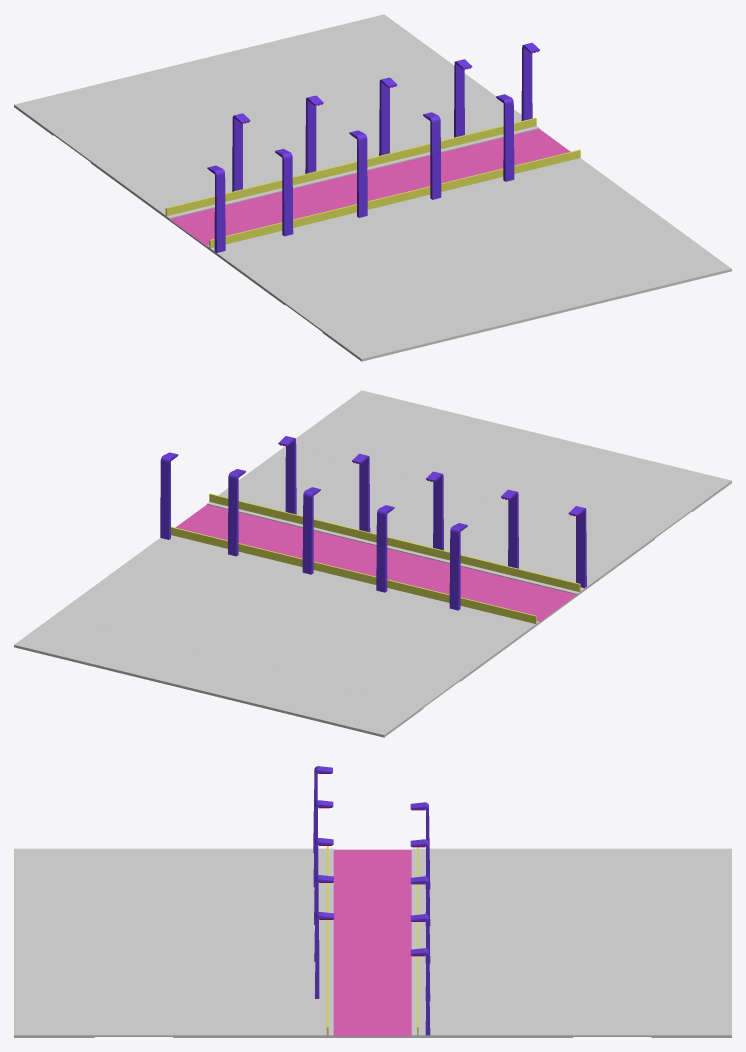
The model's file is Road1.fbx.
The picture shows the model from 3 angles, top to bottom: view 1: azimuth 30°, elevation 25°; view 2: azimuth 150°, elevation 25°; view 3: azimuth 270°, elevation 25°; orthographic projection. The views are drawn at different scales.
Visible parts, largest first — view 1: Cube.000; view 2: Cube.000; view 3: Cube.000.
Part boxes in pixels (bbox=[...]): Cube.000: bbox=[14, 14, 731, 361]; Cube.000: bbox=[14, 390, 731, 737]; Cube.000: bbox=[14, 766, 731, 1037].
Size of the model in its own units: 10000 by 2131 by 16266.
